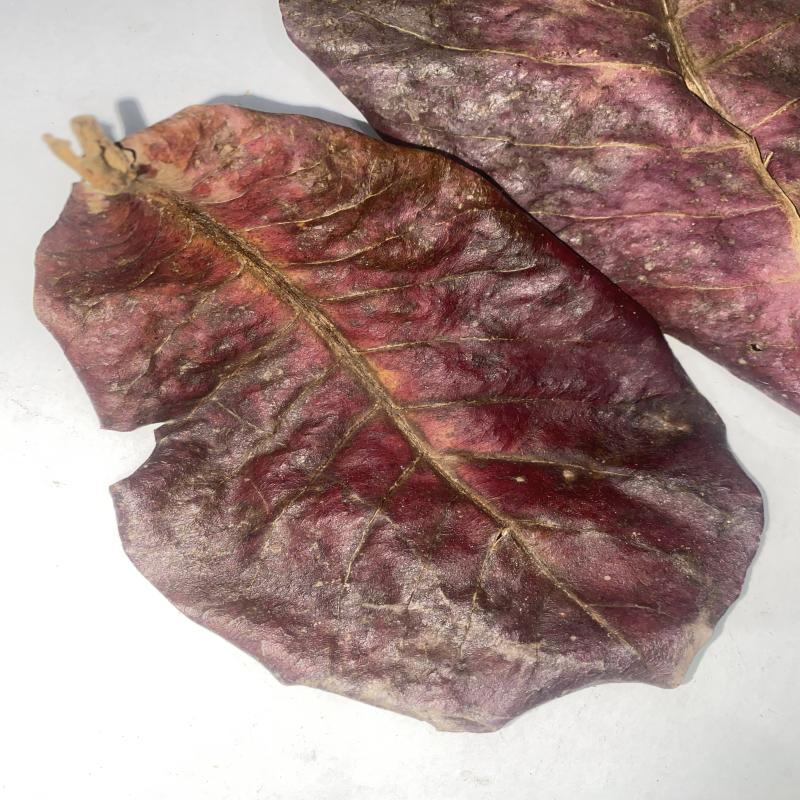treeleaves: (32, 97, 765, 738), (278, 0, 800, 404)
